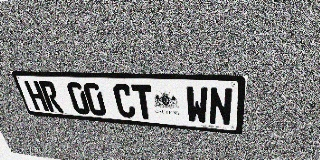0: (65, 82, 91, 115), (82, 82, 107, 116)
C: (112, 83, 136, 118)
H: (24, 81, 49, 111)
N: (209, 87, 233, 126)
R: (38, 81, 64, 113)
T: (131, 84, 155, 120)
W: (185, 86, 208, 124)
